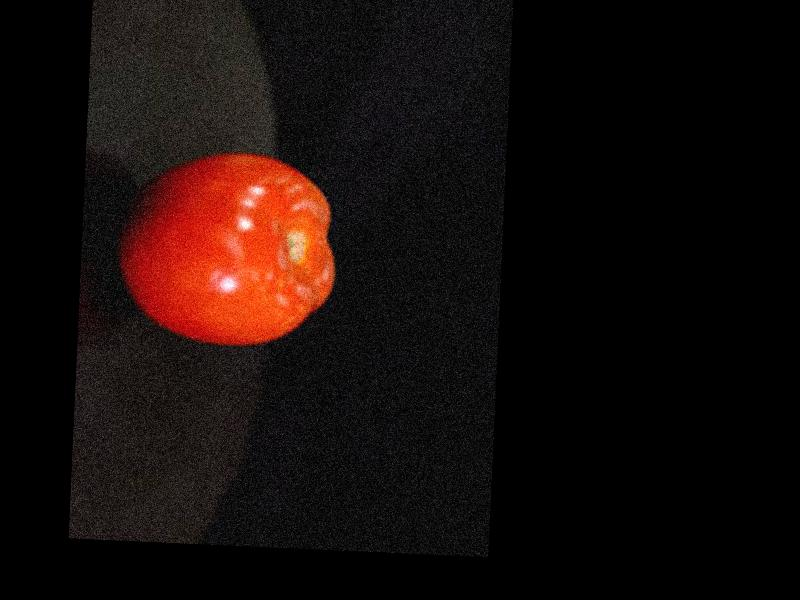Tomato: (119, 148, 340, 352)
